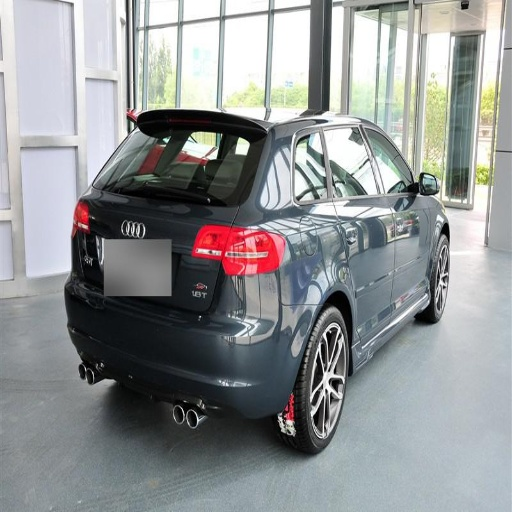_background_: (67, 273, 318, 419)
back_bumper: (96, 123, 265, 205)
back_left_light: (298, 121, 394, 334)
back_right_door: (222, 229, 283, 278)
front_left_light: (365, 124, 426, 313)
right_mirror: (171, 264, 217, 314)
tailgate: (85, 194, 229, 315)
trunk: (275, 305, 350, 453), (427, 238, 448, 322)
